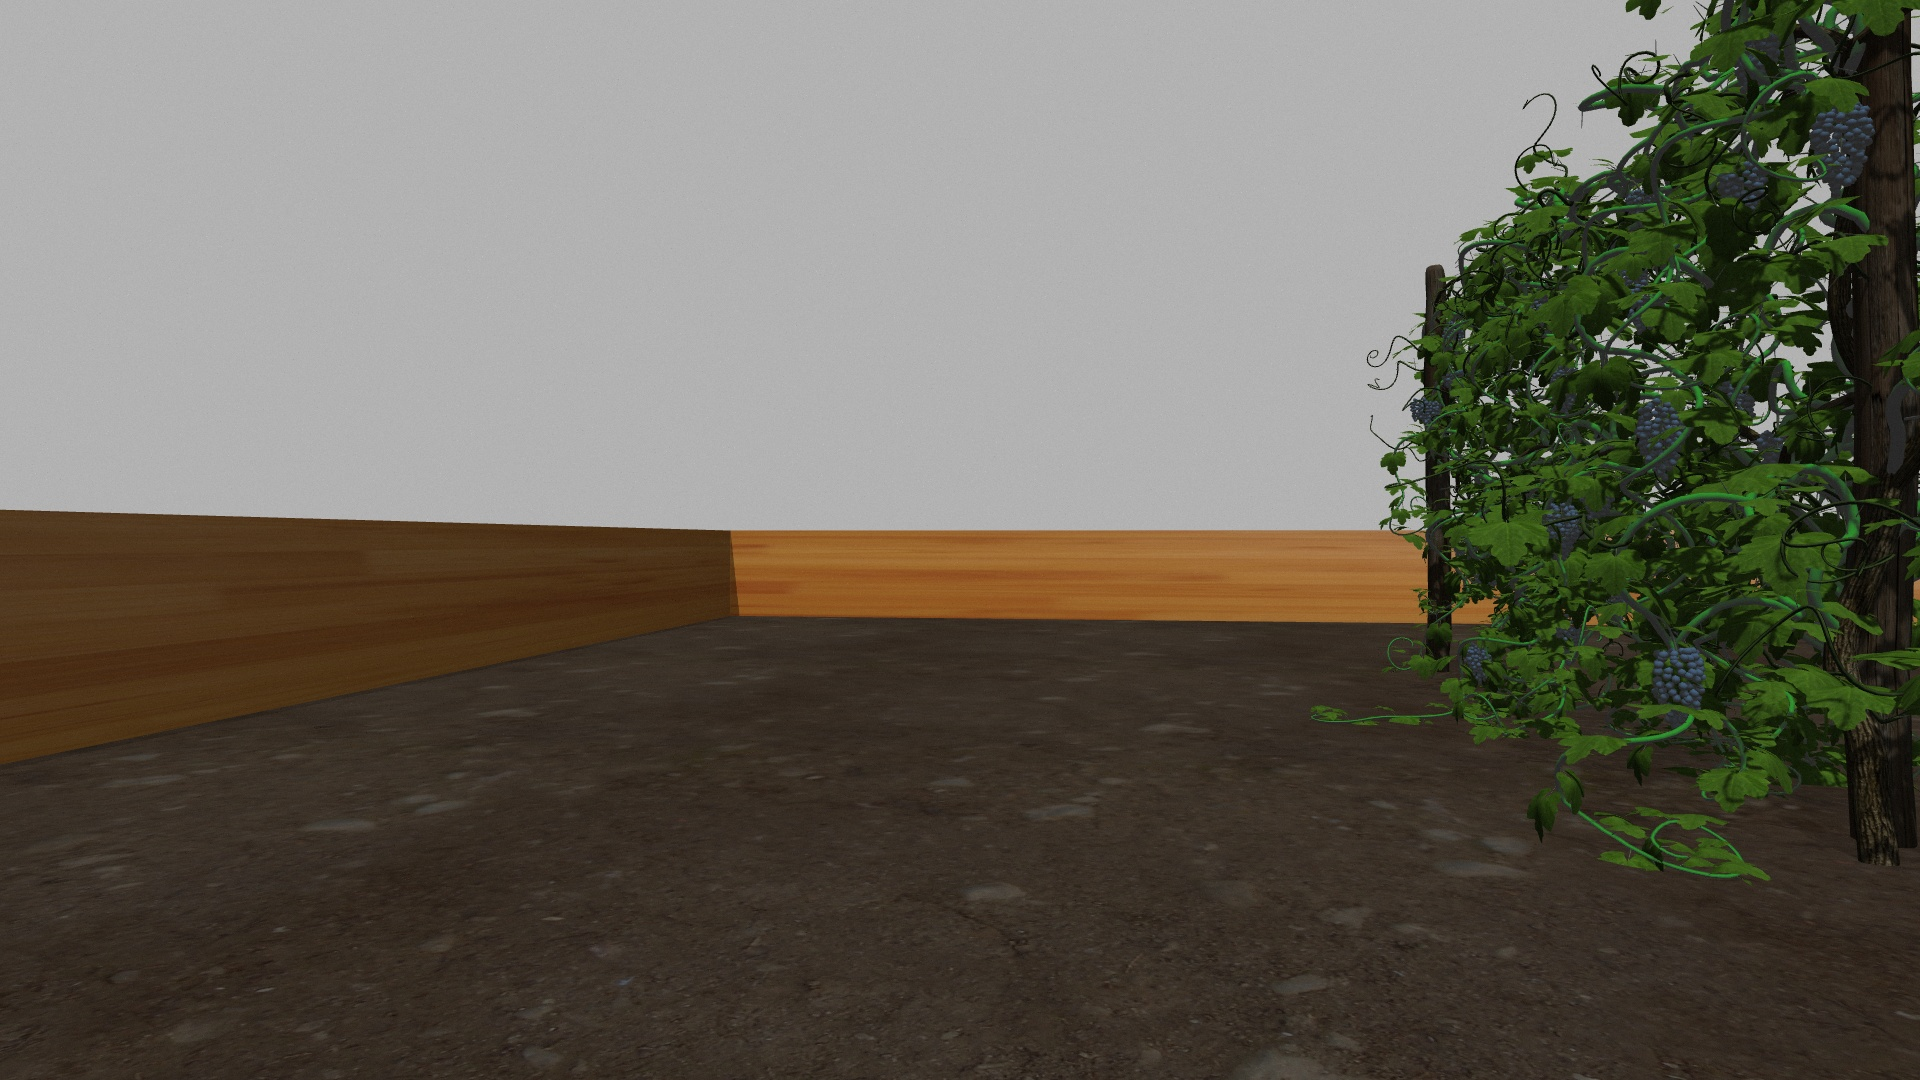grape: (1813, 98, 1875, 190), (1654, 644, 1712, 713), (1635, 404, 1683, 473), (1716, 157, 1767, 212), (1544, 502, 1582, 560), (1464, 645, 1491, 684), (1408, 400, 1425, 425), (1425, 400, 1441, 425)
